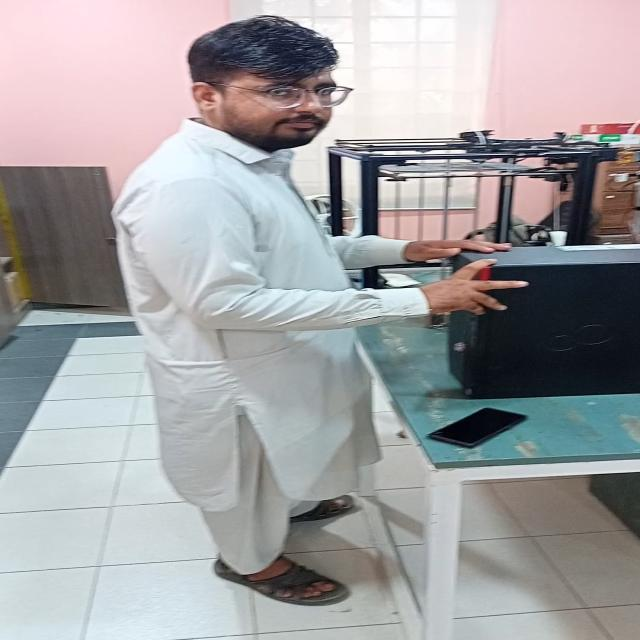dress: (111, 117, 439, 578)
glasses: (247, 79, 363, 110)
